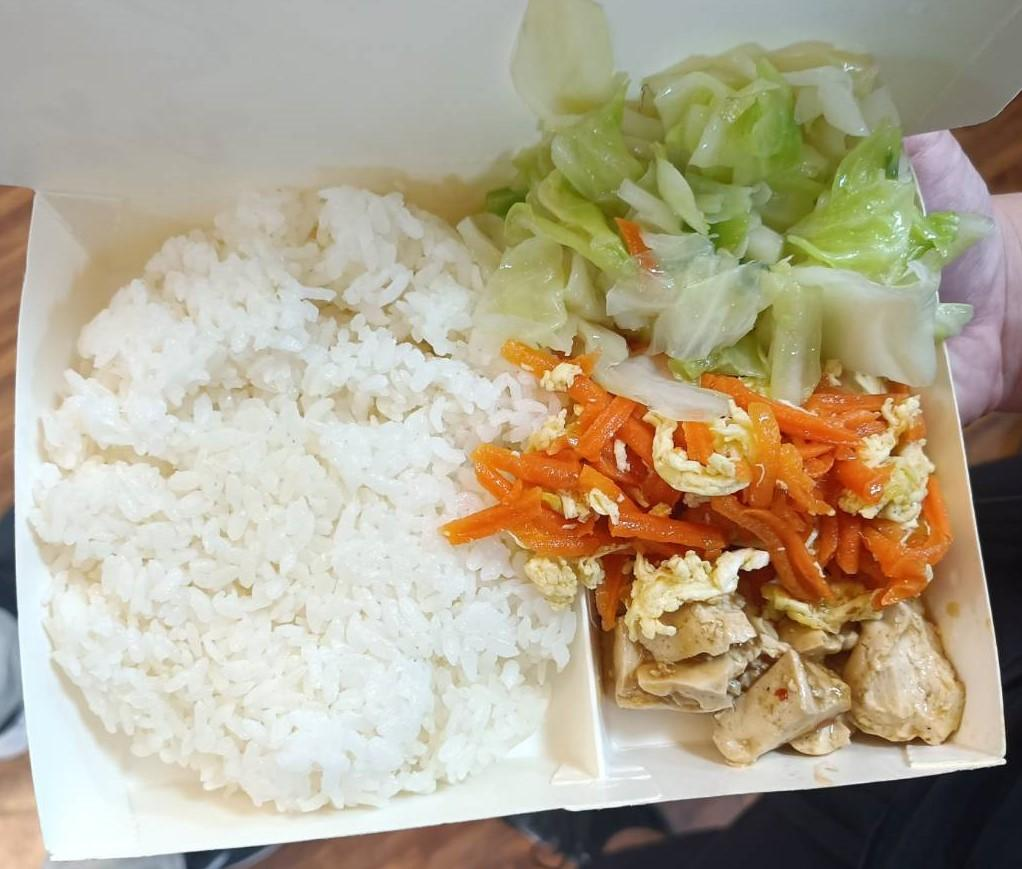big grilled chicken leg: (10, 142, 1022, 869)
big herbal chicken leg: (46, 192, 575, 807)
braised fish fillet: (484, 28, 956, 372), (510, 353, 944, 590), (620, 548, 963, 761)
